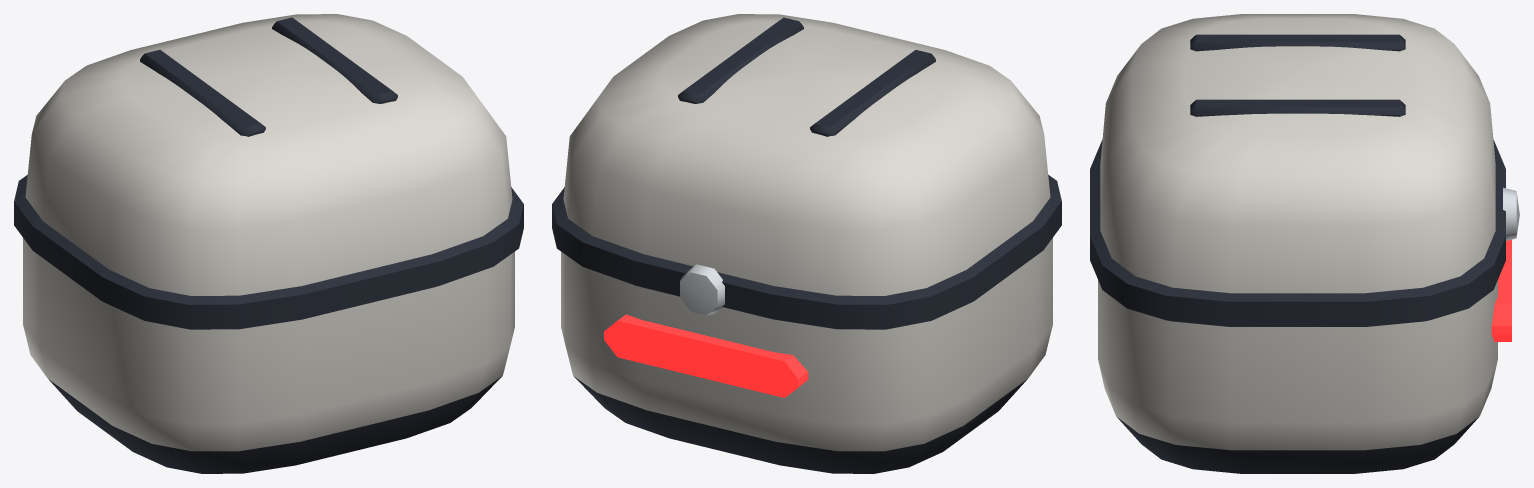
The model's file is gear_topbox.glb.
3 renders of one model, left to right at view 1: azimuth 30°, elevation 25°; view 2: azimuth 150°, elevation 25°; view 3: azimuth 270°, elevation 25°, orthographic.
Visible parts, largest first — view 1: box; view 2: box; view 3: box.
Part boxes in pixels (<box>): box: <box>14,14,523,473</box>; box: <box>552,14,1061,473</box>; box: <box>1090,14,1519,473</box>.
Bounding box in the file's own units: 0.415 × 0.315 × 0.3797.
